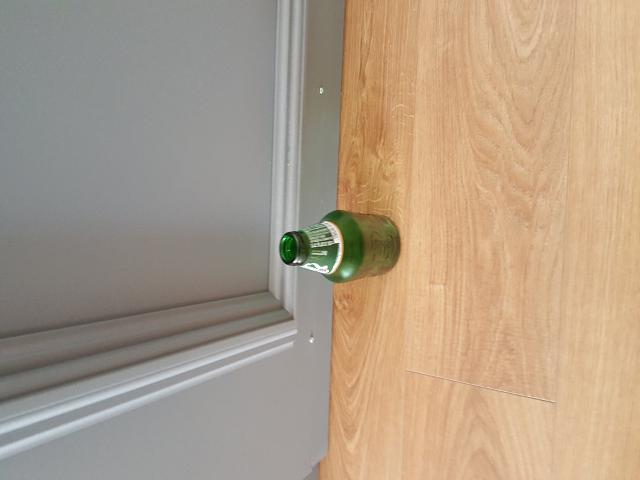beer: (279, 209, 400, 282)
